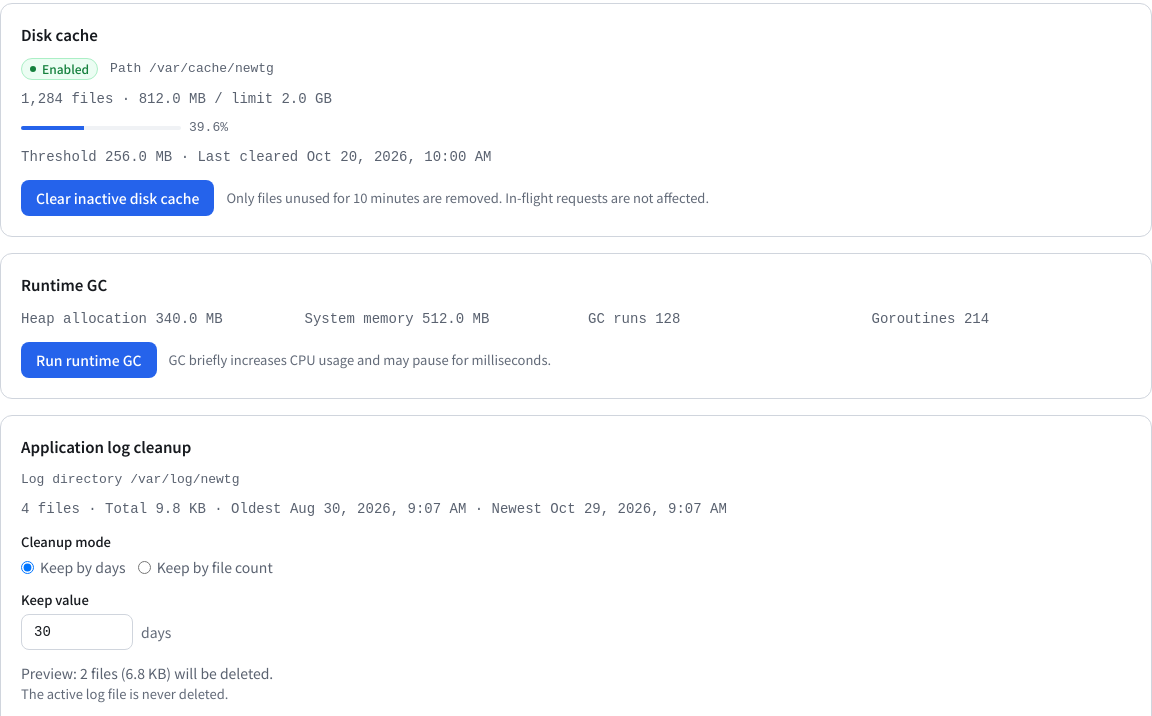
it: maintenance actions › confirms and runs the runtime GC with the confirm header
This screenshot has width=1152, height=716.
(page scrolled)
Step 1. Click the button "Run runtime GC" → x=89, y=360, box [21,342,157,378]
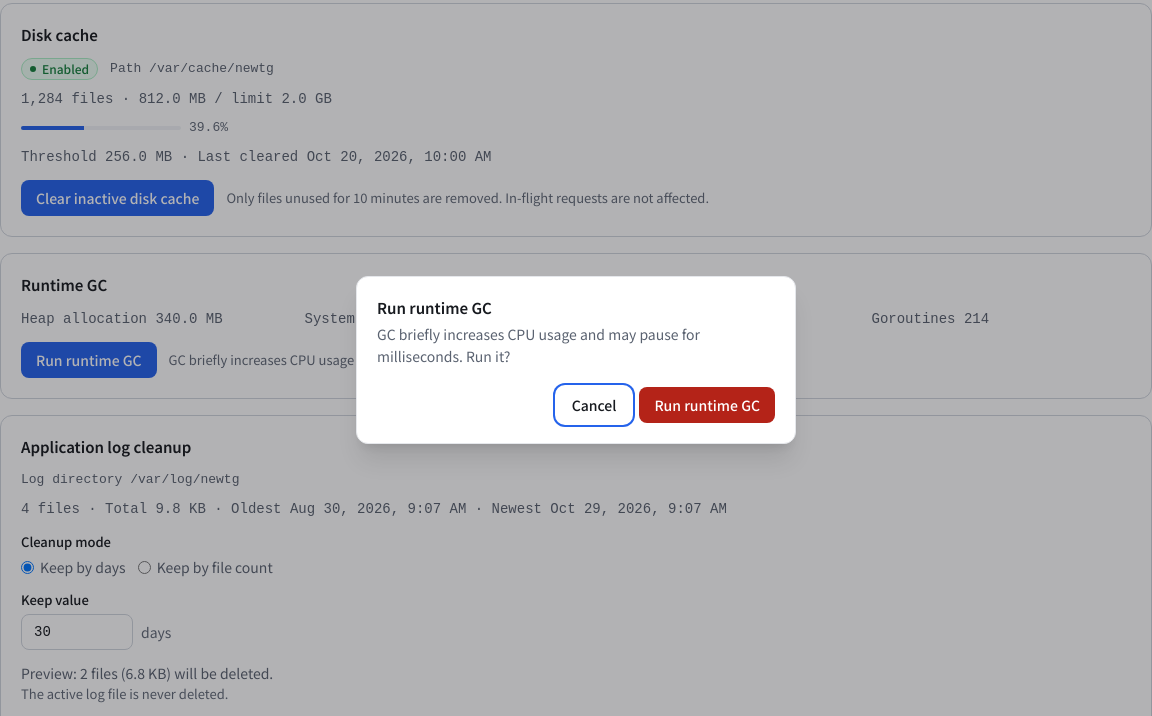
Step 2. Click the button "Run runtime GC" → x=707, y=405, box [639,387,775,423]
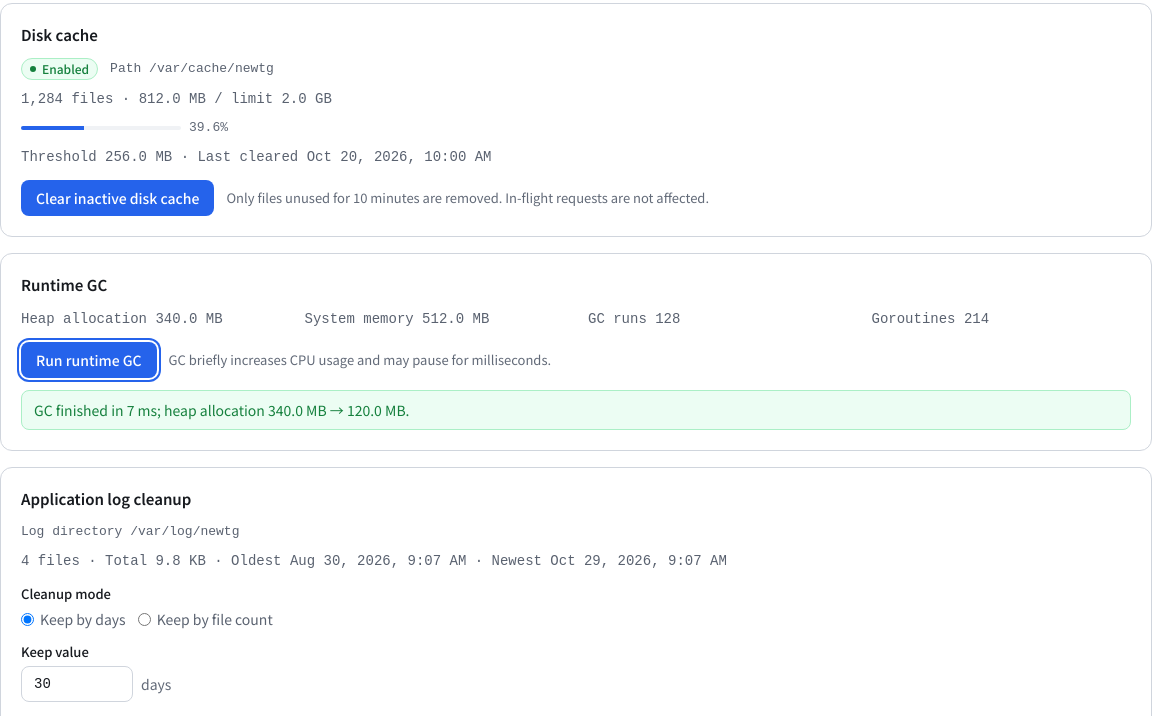
Result: the text with test id "performance-gc-result" shows "7 ms" at [34,400,410,420]
Result: the text with test id "performance-gc-result" shows "340.0 MB → 120.0 MB" at [34,400,410,420]
